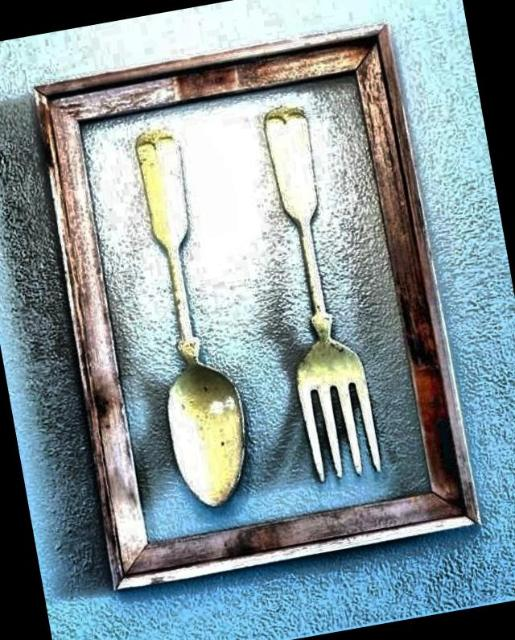Fork: (265, 108, 380, 481), (136, 130, 244, 506)
